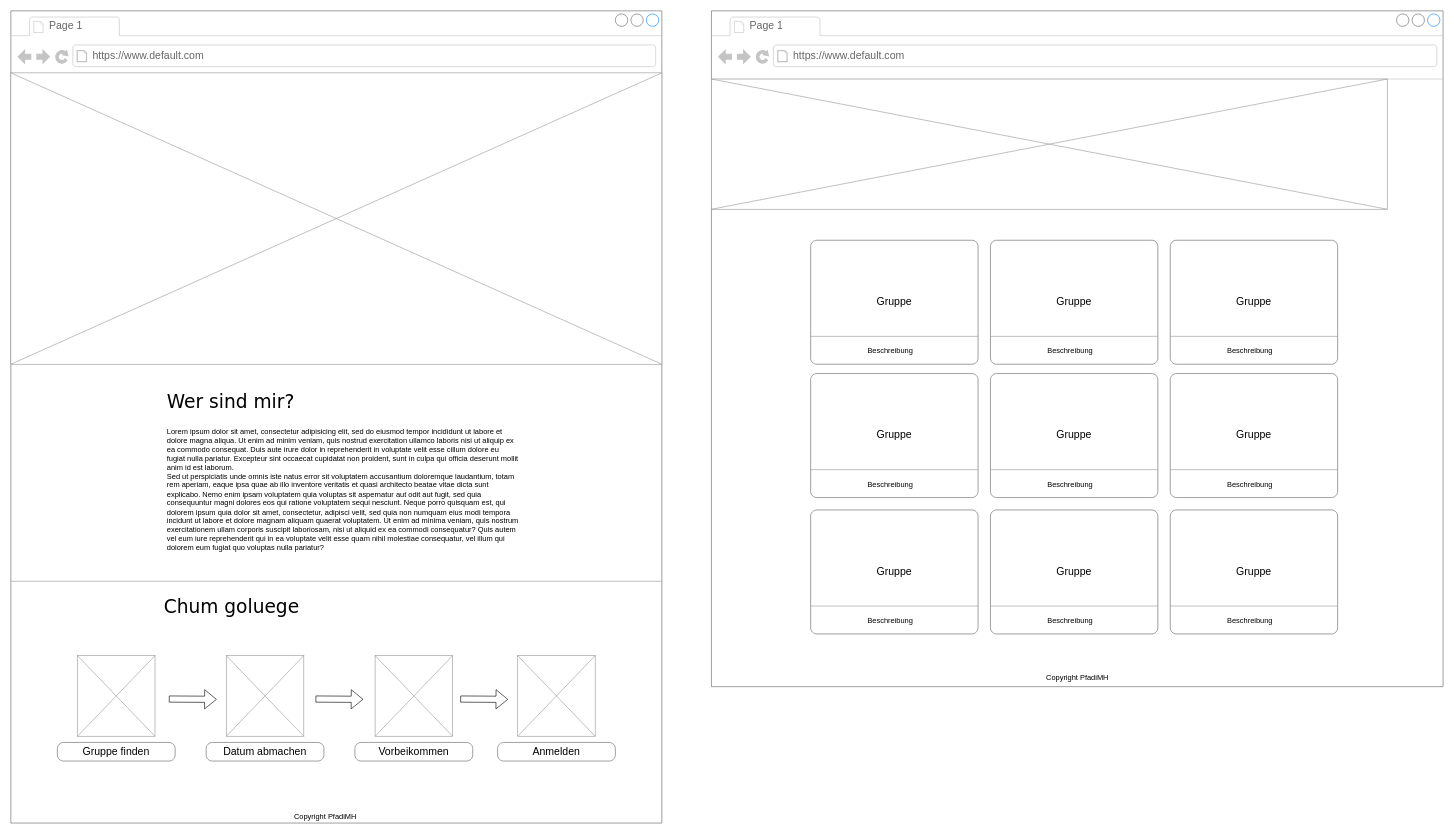
Some shapes in this 1454 by 837 pixel diagram are drawn without their labels. Each missing label, with the centre of its shape:
"Gruppen" belongs at (1049,143).
"Pfadi MH" belongs at (336,218).
